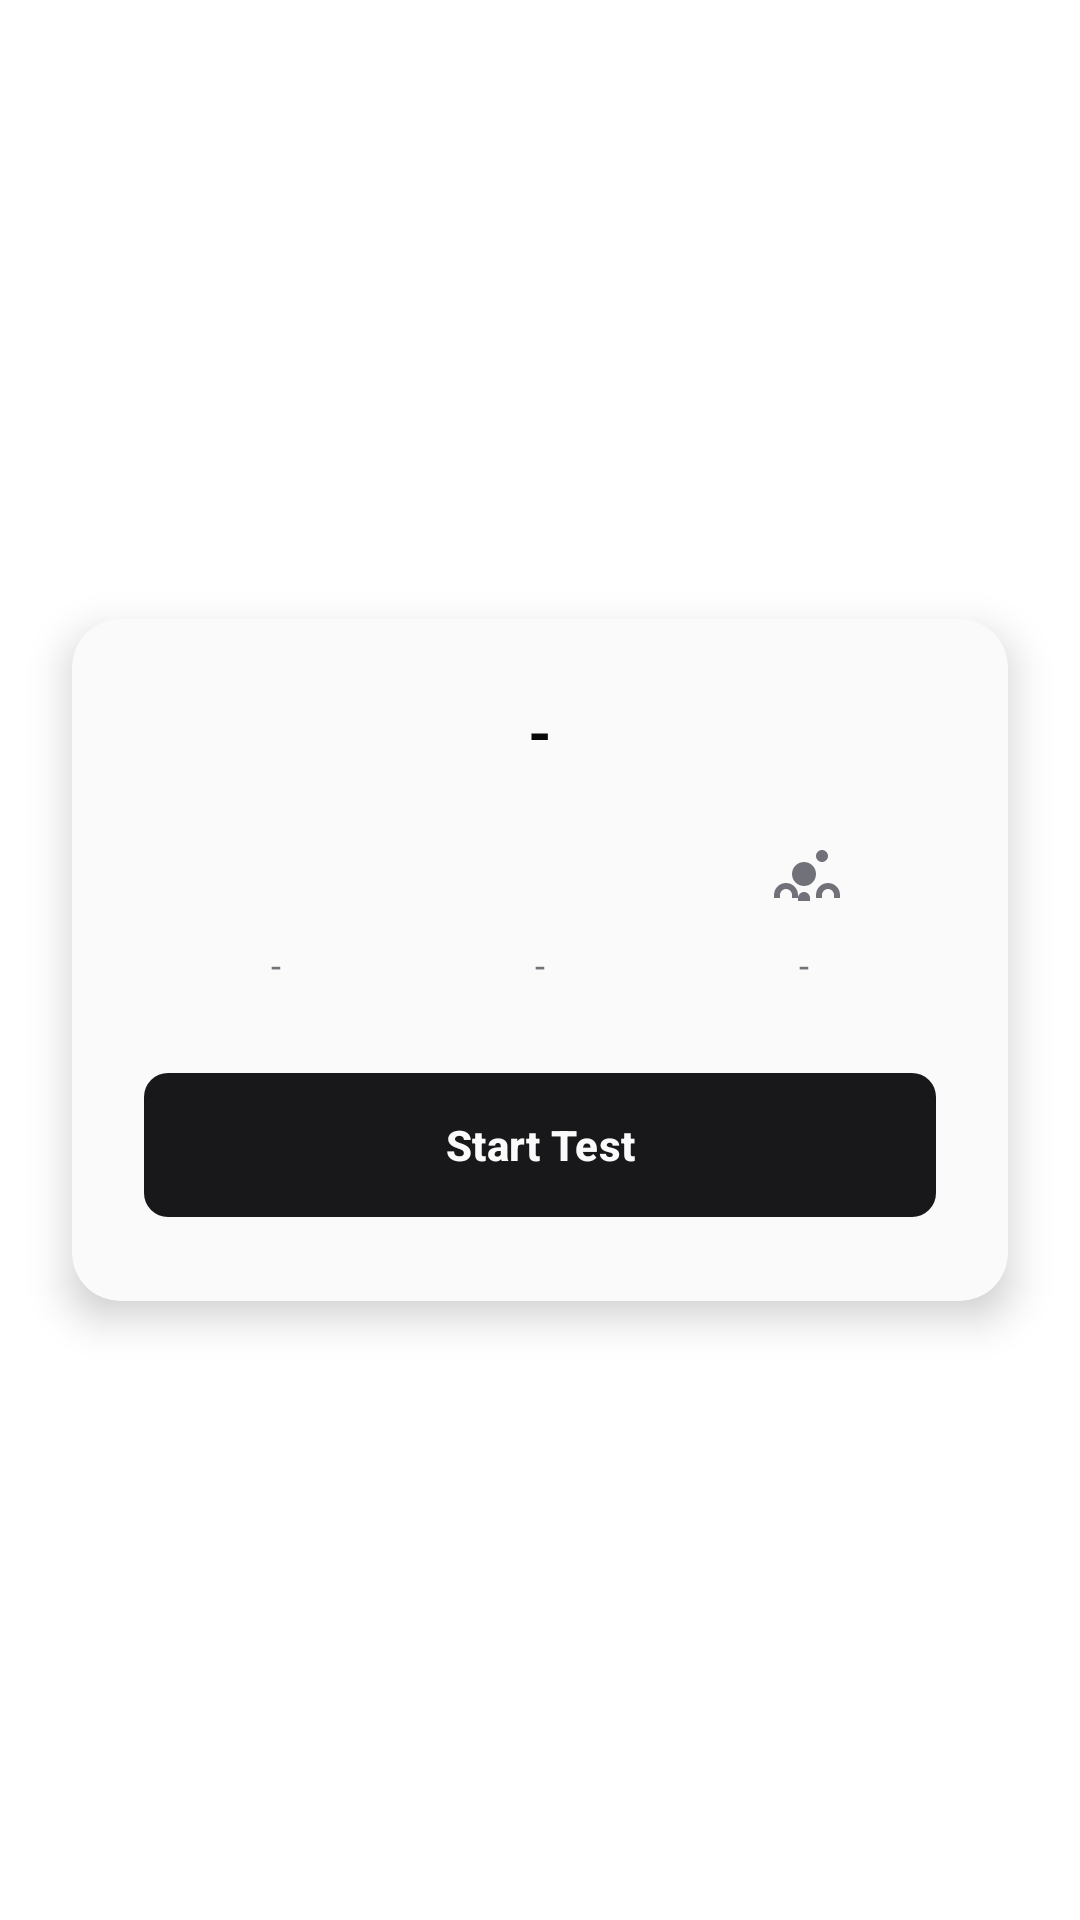

Icon click points for this 1080 × 1920 phone screenshot, format (x,y):
people: (807,875)
